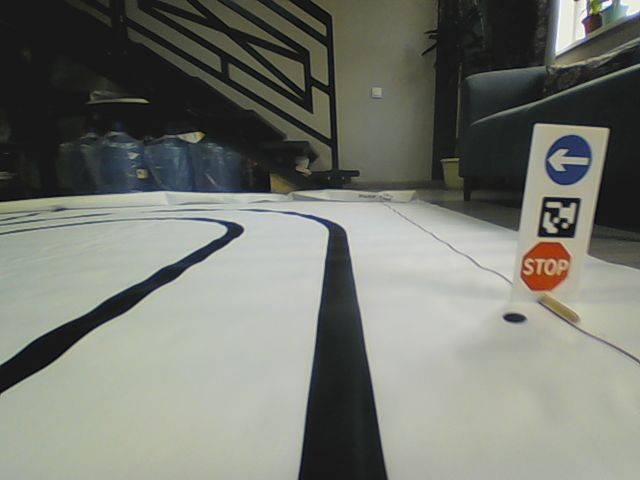Stop: (520, 241, 572, 292)
